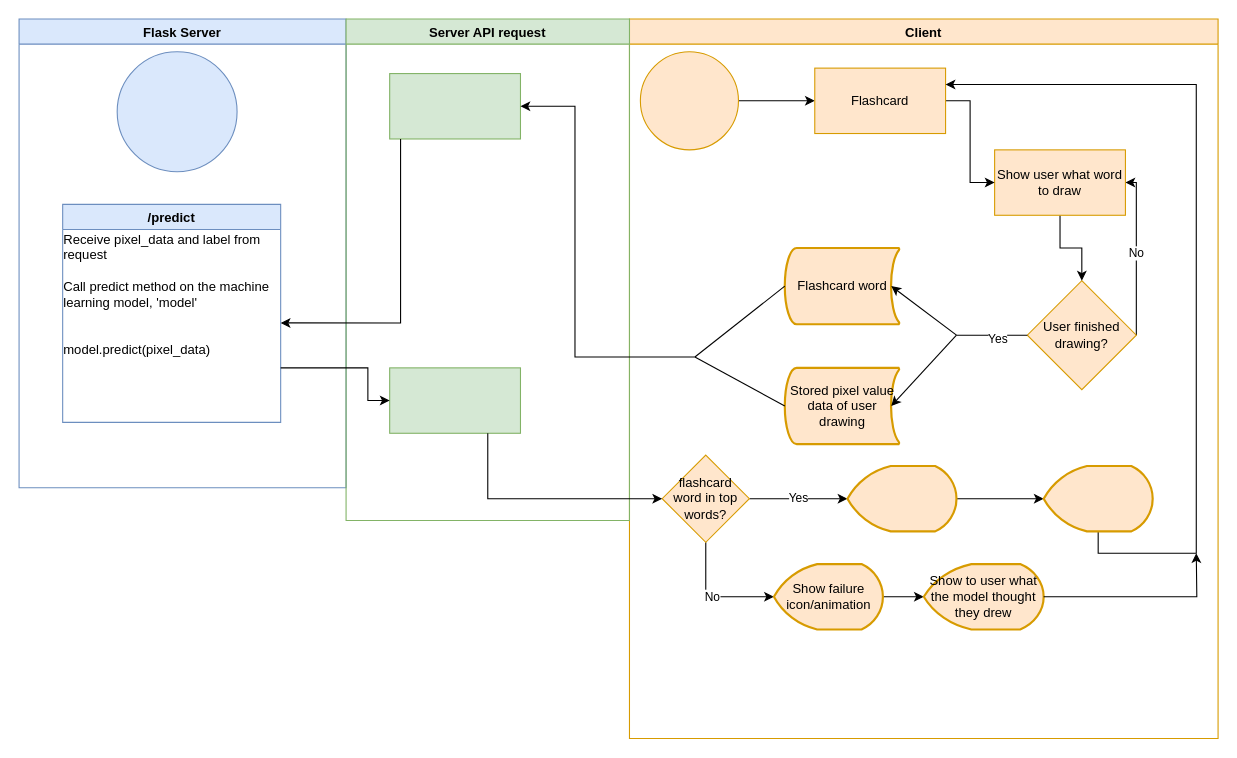
This 1237x758 diagram has some shape labels left out. The shapes that lost their labels are listed below. From the top down, each one's centre as x and y in pixels, then its label:
the point at 176,111: Load pre-trained model from model file
the point at 454,105: POST request to: "/predict"
the point at 688,100: Main webpage
the point at 454,400: Top 3-5 words and class probabilities predicted by the model
the point at 901,498: Show success icon/animation
the point at 1097,498: show new flashcard word
